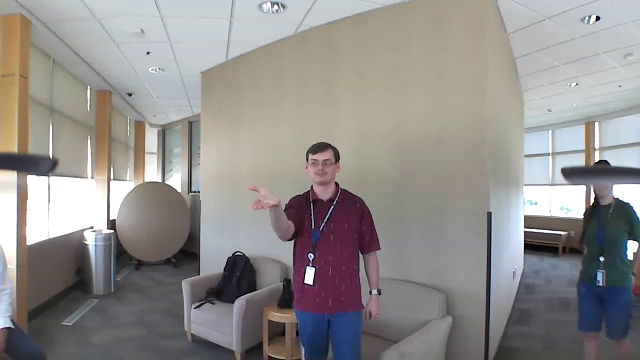land: (241, 181, 287, 214)
